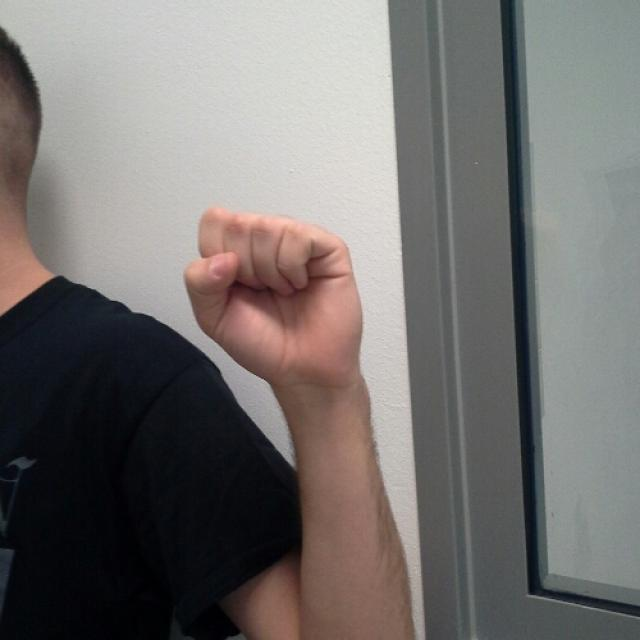rock: (183, 208, 364, 374)
